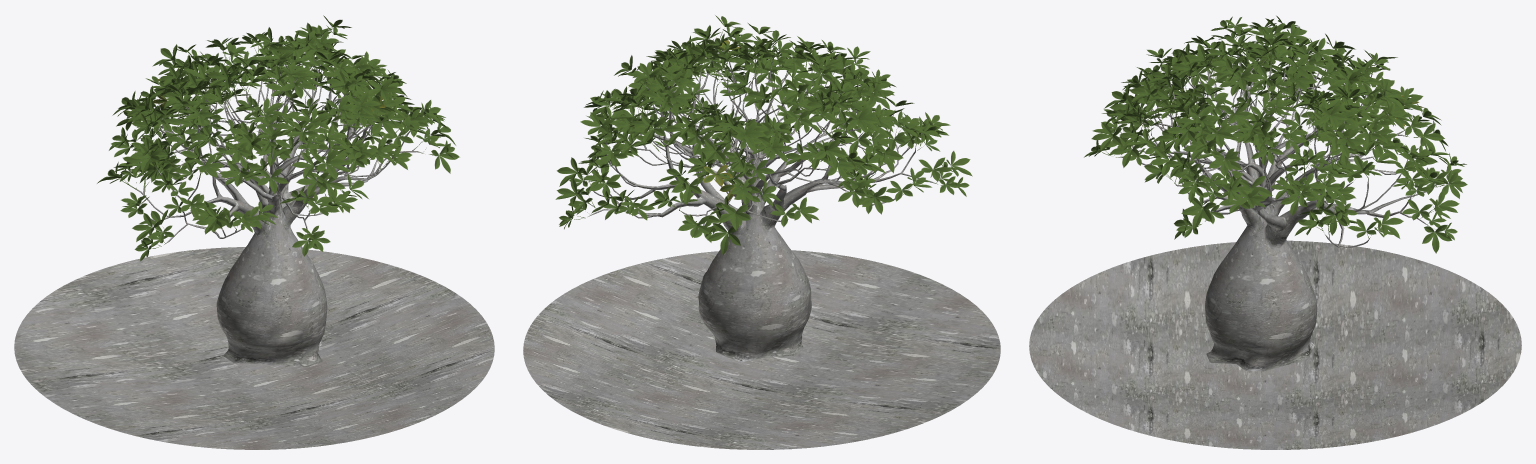
The model's file is realistic_hd_african_continental_baobab_120.glb.
3 renders of one model, left to right at view 1: azimuth 30°, elevation 25°; view 2: azimuth 150°, elevation 25°; view 3: azimuth 270°, elevation 25°, orthographic. The views are drawn at different scales.
Visible parts, largest first — view 1: EcoSuelo, Adansonia_digitata_HD_Adansonia leaf 01_0, Adansonia_digitata_HD_Adansonia bark_0, Adansonia_digitata_HD_Adansonia twig_0, Adansonia_digitata_HD_Adansonia leaf stalk_0; view 2: EcoSuelo, Adansonia_digitata_HD_Adansonia leaf 01_0, Adansonia_digitata_HD_Adansonia bark_0, Adansonia_digitata_HD_Adansonia twig_0, Adansonia_digitata_HD_Adansonia leaf stalk_0; view 3: EcoSuelo, Adansonia_digitata_HD_Adansonia leaf 01_0, Adansonia_digitata_HD_Adansonia bark_0, Adansonia_digitata_HD_Adansonia twig_0, Adansonia_digitata_HD_Adansonia leaf stalk_0.
Part boxes in pixels (bbox=[...]): EcoSuelo: bbox=[14, 247, 494, 449]; Adansonia_digitata_HD_Adansonia leaf 01_0: bbox=[97, 15, 459, 261]; Adansonia_digitata_HD_Adansonia bark_0: bbox=[141, 59, 417, 367]; Adansonia_digitata_HD_Adansonia twig_0: bbox=[124, 35, 432, 248]; Adansonia_digitata_HD_Adansonia leaf stalk_0: bbox=[118, 38, 439, 248]; EcoSuelo: bbox=[523, 250, 1000, 449]; Adansonia_digitata_HD_Adansonia leaf 01_0: bbox=[555, 15, 972, 255]; Adansonia_digitata_HD_Adansonia bark_0: bbox=[594, 61, 930, 362]; Adansonia_digitata_HD_Adansonia twig_0: bbox=[577, 36, 949, 219]; Adansonia_digitata_HD_Adansonia leaf stalk_0: bbox=[574, 30, 942, 229]; EcoSuelo: bbox=[1029, 240, 1521, 449]; Adansonia_digitata_HD_Adansonia leaf 01_0: bbox=[1084, 15, 1467, 253]; Adansonia_digitata_HD_Adansonia bark_0: bbox=[1123, 52, 1436, 371]; Adansonia_digitata_HD_Adansonia twig_0: bbox=[1104, 30, 1446, 242]; Adansonia_digitata_HD_Adansonia leaf stalk_0: bbox=[1101, 28, 1446, 238].
Bounding box in the file's own units: 8.75 × 6.45 × 8.75.
Materials: 8 (8 with a texture image).
